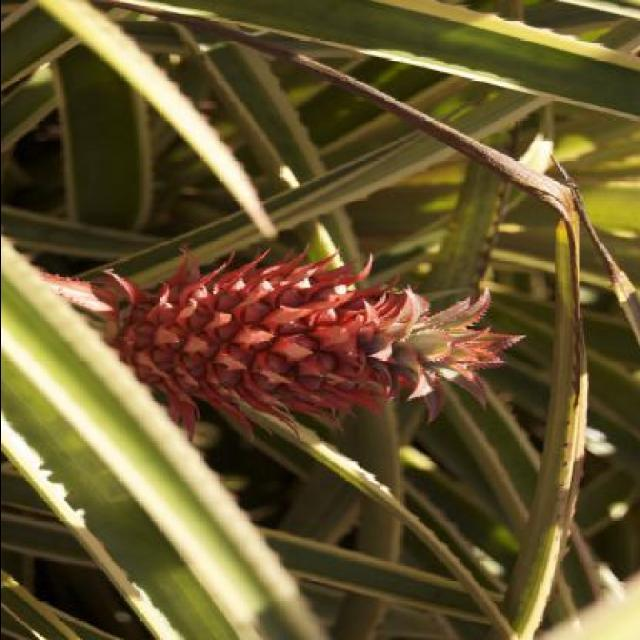Pineapple: (106, 245, 528, 444)
